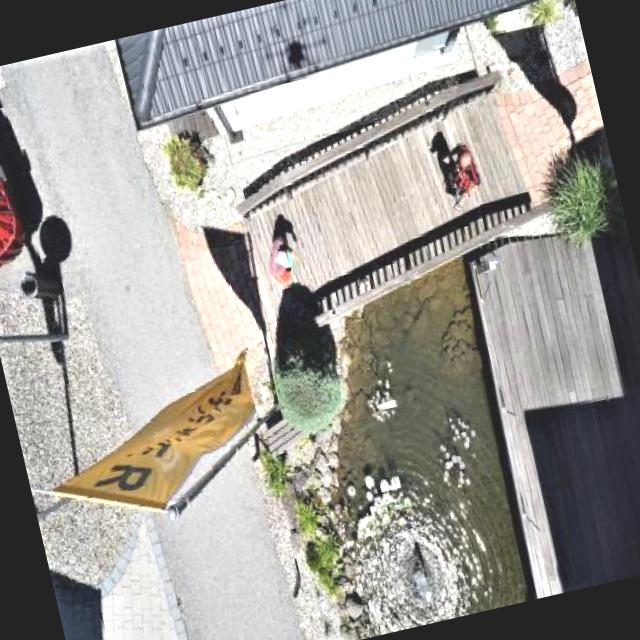Person: (434, 129, 486, 212), (254, 228, 301, 300)
